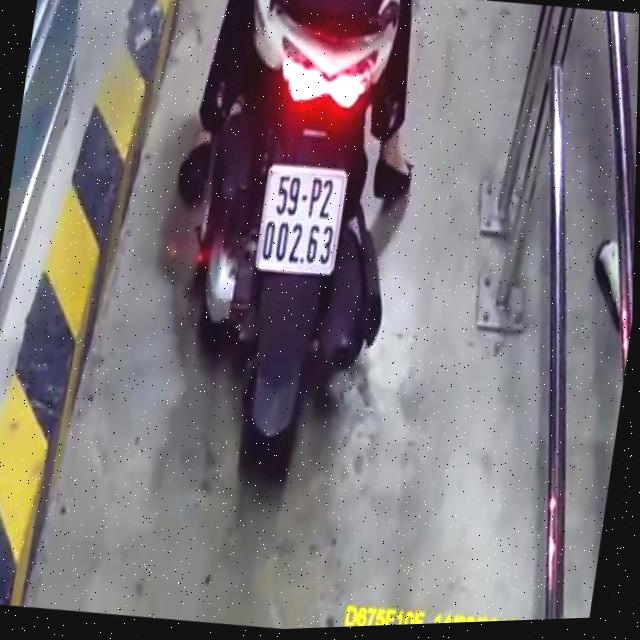motorcycle: (154, 0, 439, 509)
plate: (245, 151, 356, 282)
